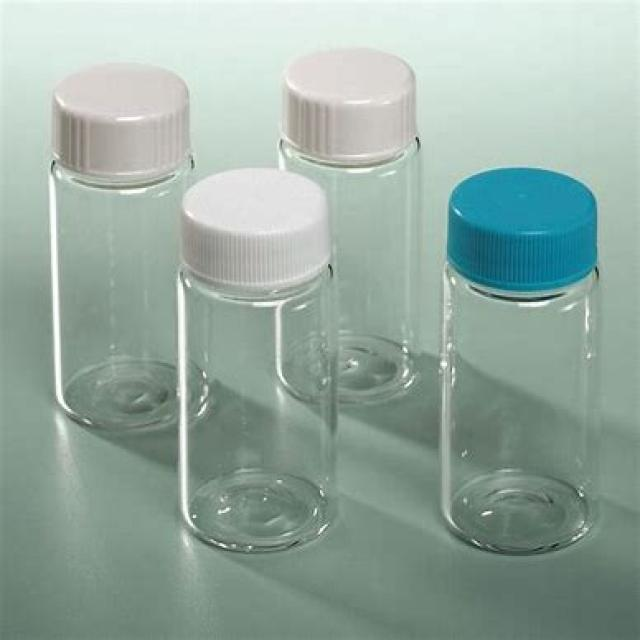vial: (448, 163, 598, 261), (175, 178, 326, 249), (284, 46, 414, 122), (62, 68, 180, 124)
